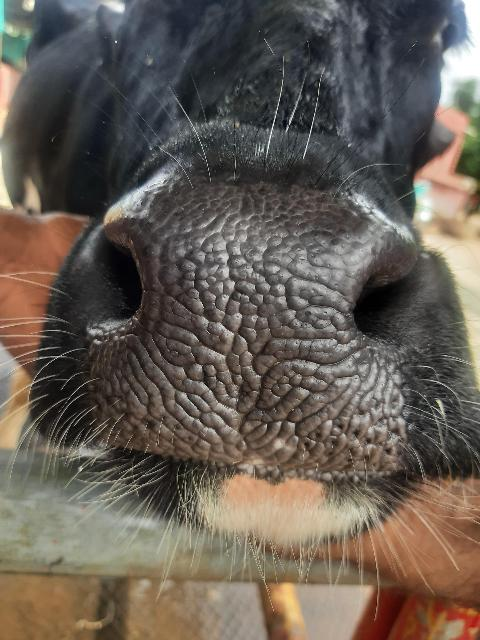Muzzle: (109, 190, 395, 472)
